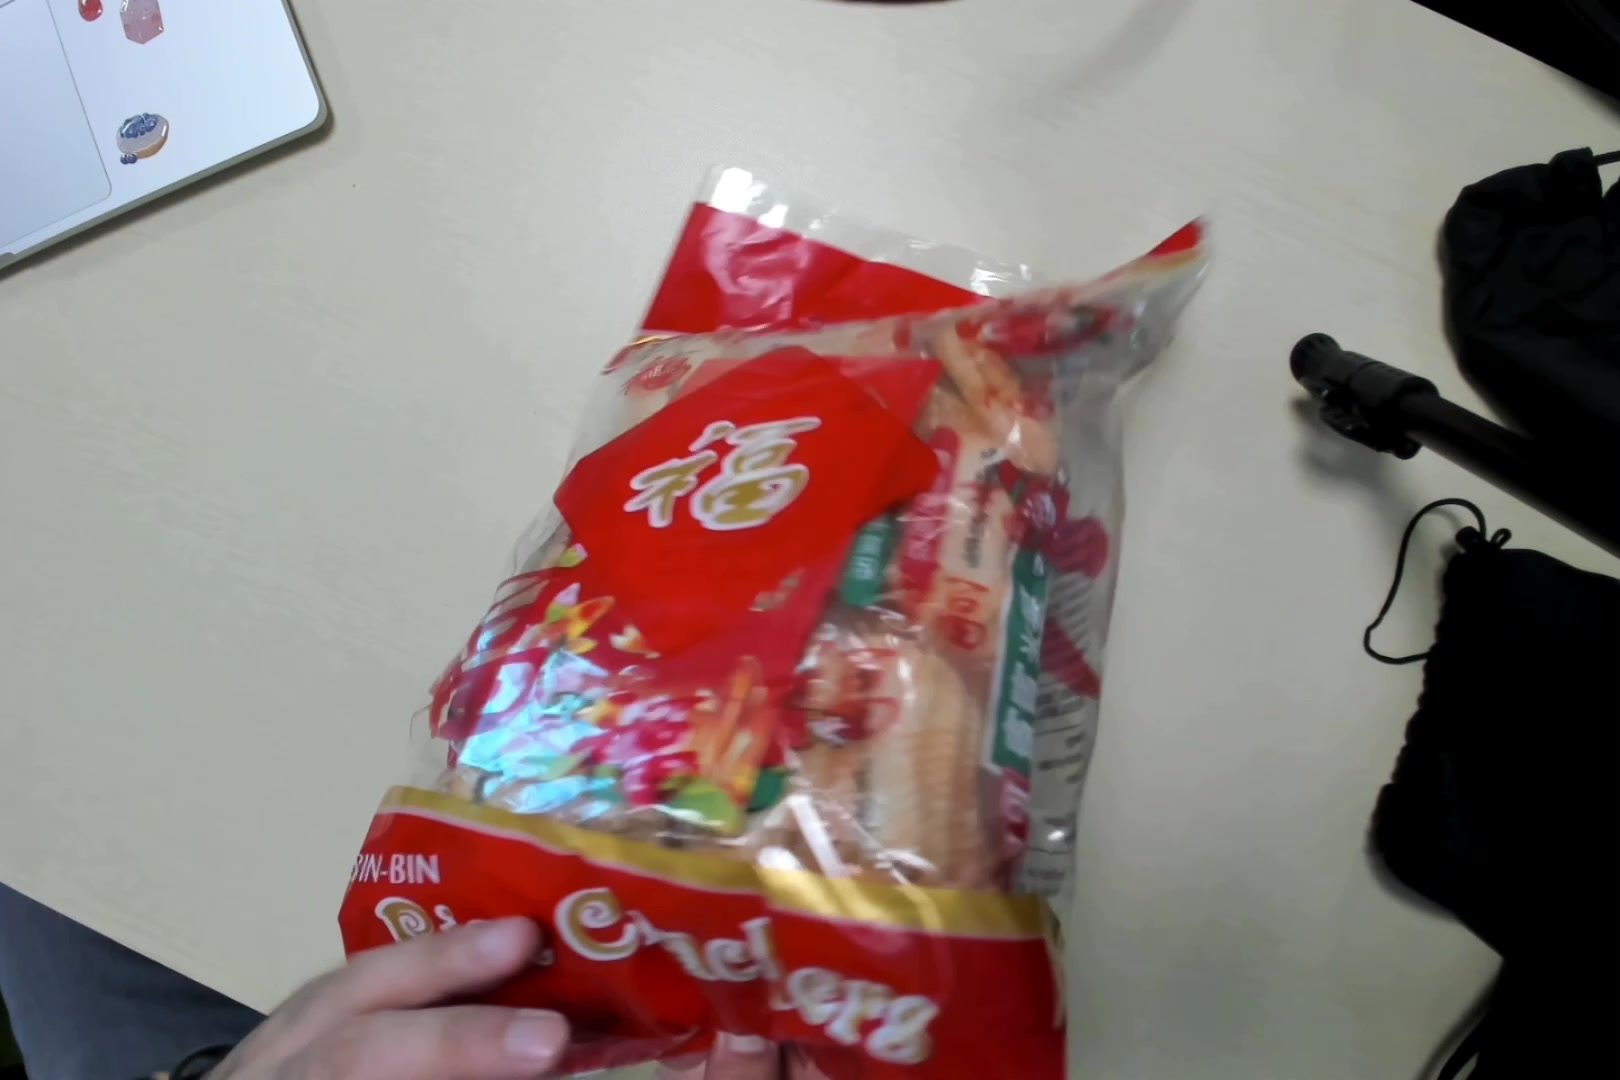PotatoChipsKeropok_300-399g_NonHalal_NonHealthy: (329, 172, 1182, 1080)
